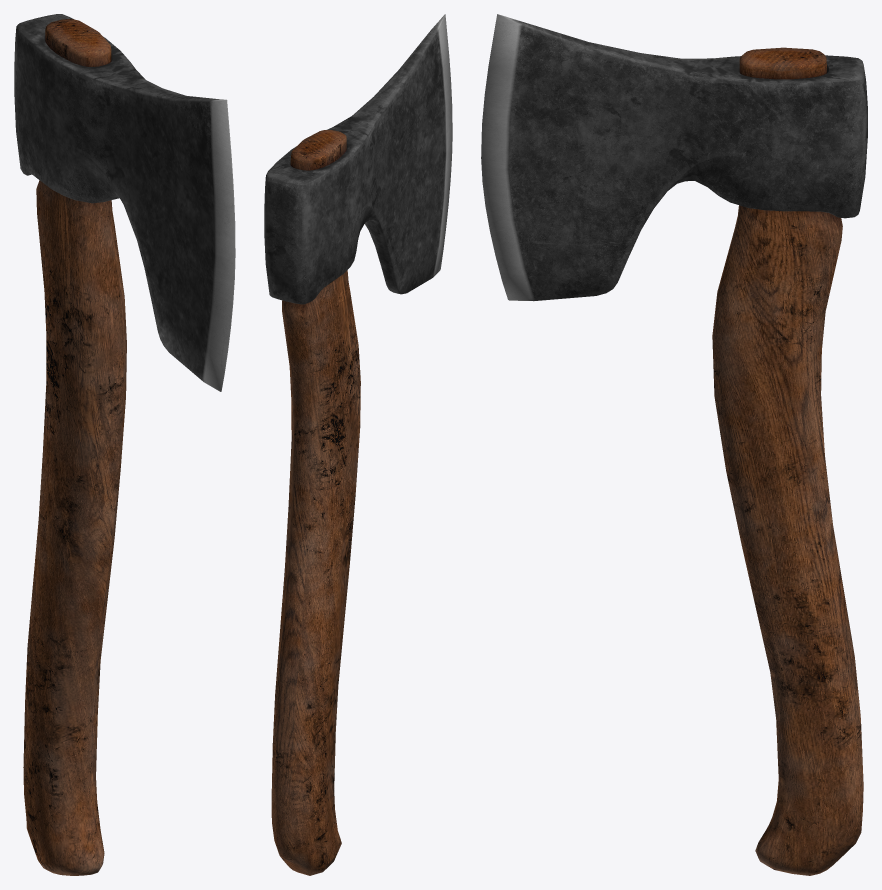
Rendered from AxeFBX.fbx.
The picture shows the model from 3 angles, left to right: view 1: azimuth 30°, elevation 25°; view 2: azimuth 150°, elevation 25°; view 3: azimuth 270°, elevation 25°; orthographic projection. The views are drawn at different scales.
Parts seen in each view (by area): view 1: axe0326; view 2: axe0326; view 3: axe0326.
Part boxes in pixels (x1,y1,x2,y2): axe0326: (14, 14, 235, 875); axe0326: (264, 14, 452, 875); axe0326: (481, 14, 867, 875).
Size of the model in its own units: 3.05 by 41.33 by 16.89.
1 material, 1 textured.
